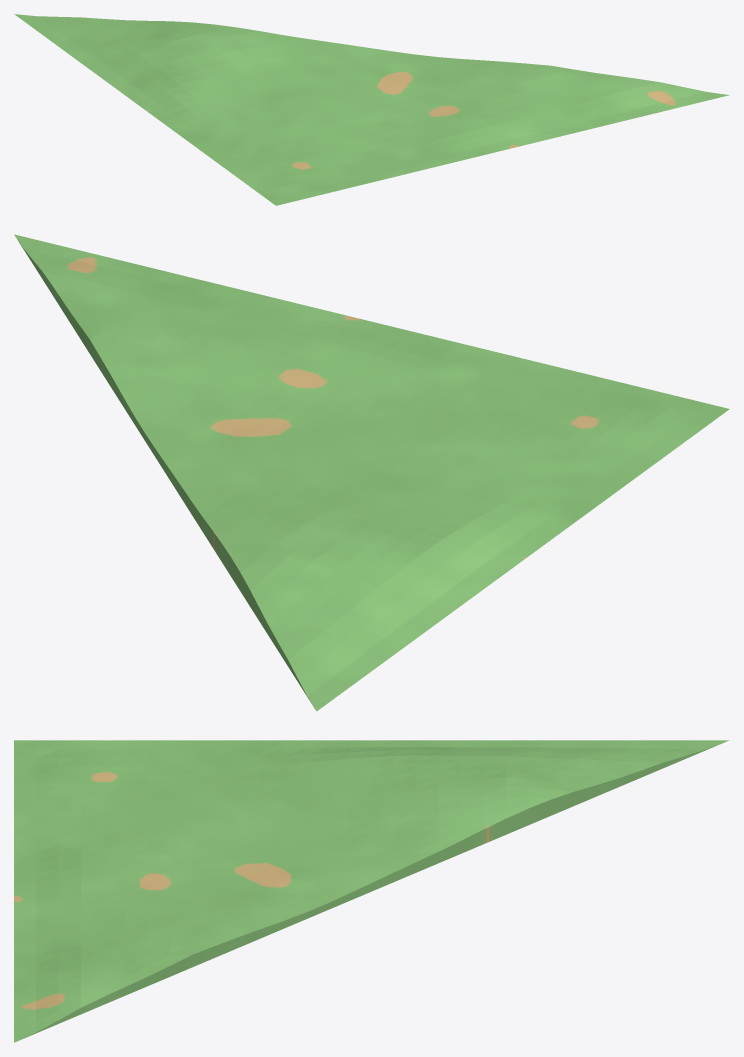
File: Grass_Flat_10_NW.obj
3 views of the same model, one above another, from view 1: azimuth 30°, elevation 25°; view 2: azimuth 150°, elevation 25°; view 3: azimuth 270°, elevation 25° (orthographic). The views are drawn at different scales.
Size of the model in its own units: 10 by 0.3104 by 10.
Materials: 1 (1 with a texture image).
